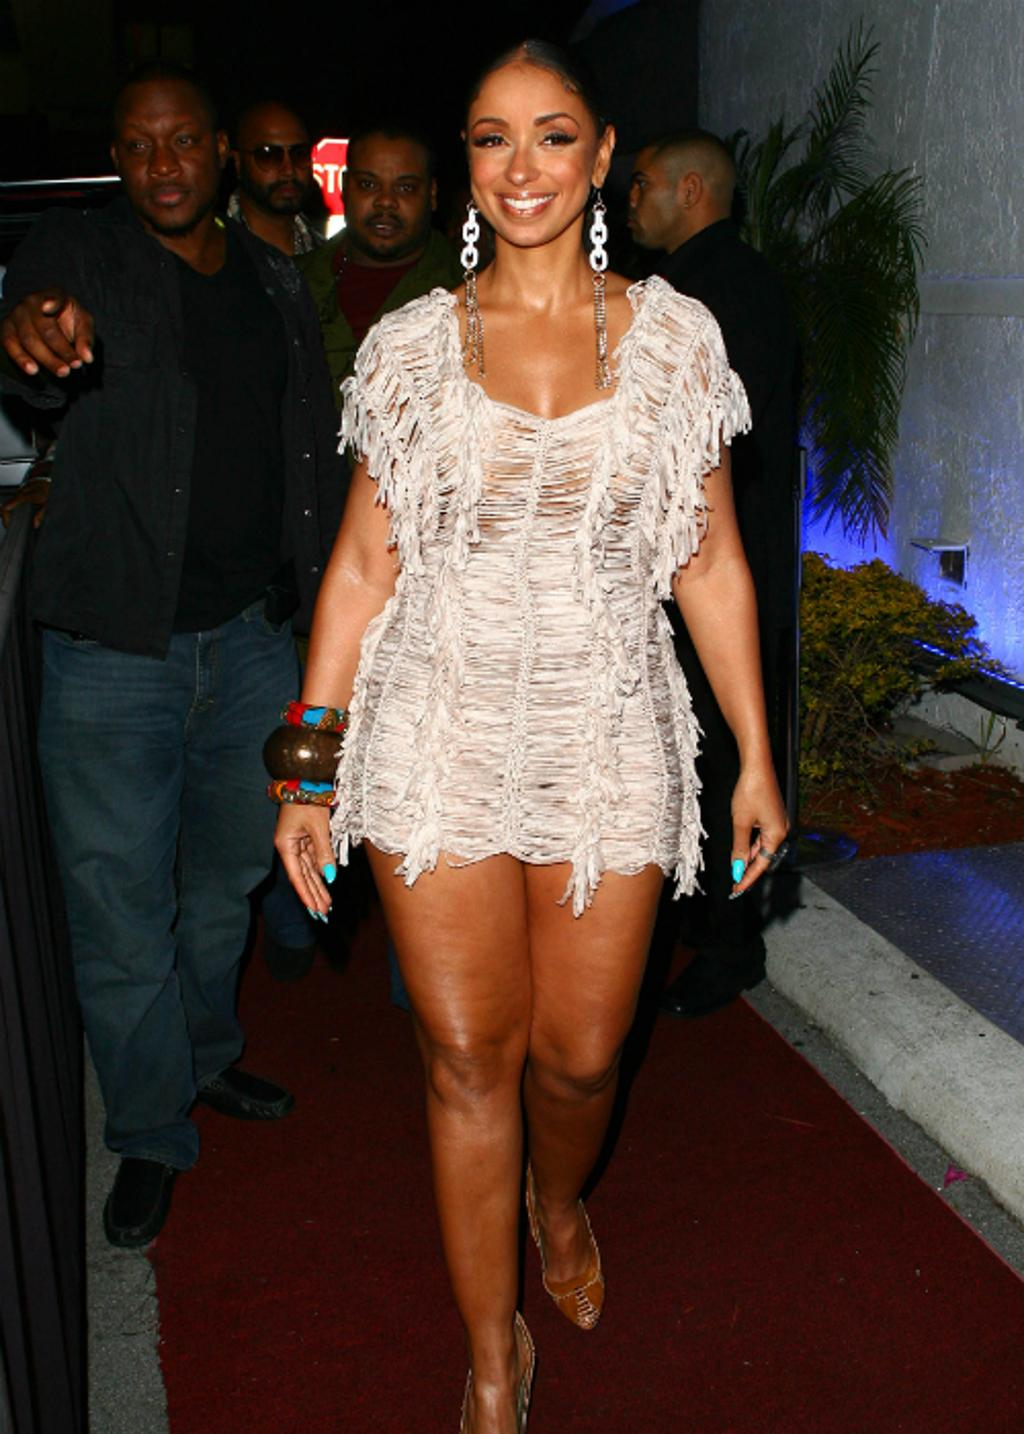face: (464, 78, 595, 243), (118, 92, 216, 229), (344, 134, 428, 252), (241, 109, 314, 215), (624, 151, 680, 246)
